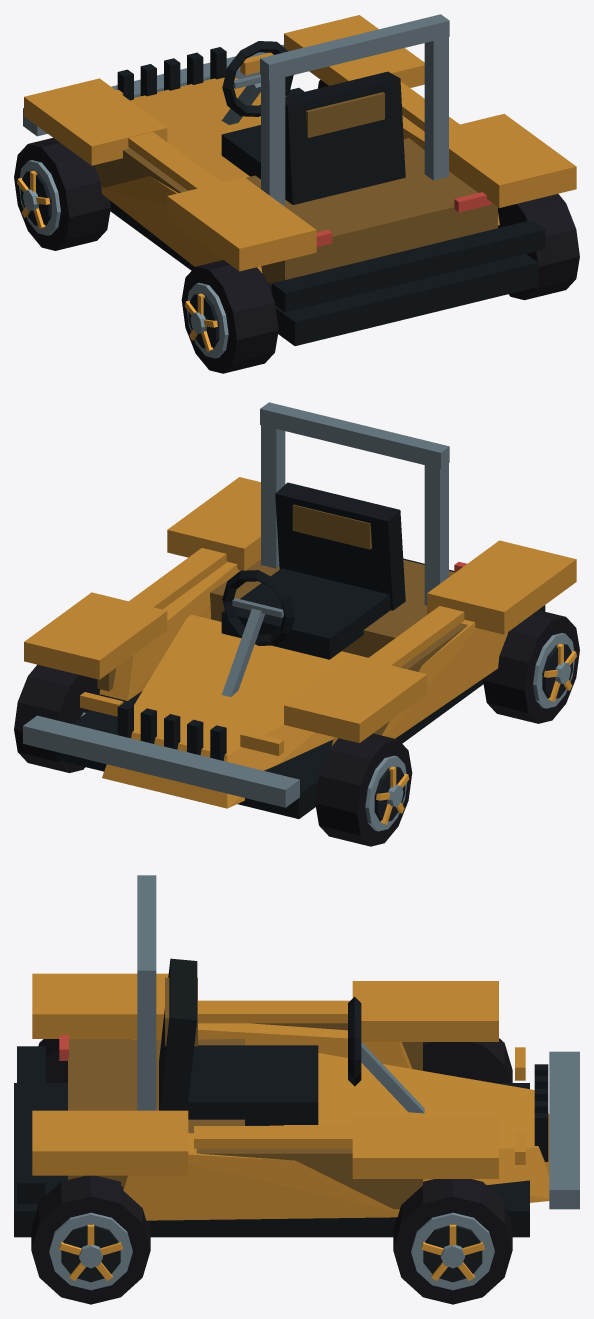
Rendered from kart.glb.
3 views of the same model, one above another, from view 1: azimuth 30°, elevation 25°; view 2: azimuth 150°, elevation 25°; view 3: azimuth 270°, elevation 25° (orthographic). The views are drawn at different scales.
Parts seen in each view (by area): view 1: chassis, wheel-rear-left, wheel-front-left, wheel-rear-right; view 2: chassis, wheel-front-left, wheel-rear-left, wheel-front-right; view 3: chassis, wheel-rear-right, wheel-front-right, wheel-front-left, wheel-rear-left.
Part boxes in pixels (x1=…): chassis: x1=23, y1=14, x2=576, y2=345; wheel-rear-left: x1=181, y1=260, x2=278, y2=373; wheel-front-left: x1=14, y1=138, x2=110, y2=250; wheel-rear-right: x1=498, y1=194, x2=579, y2=300; chassis: x1=23, y1=402, x2=576, y2=818; wheel-front-left: x1=315, y1=733, x2=412, y2=846; wheel-rear-left: x1=483, y1=610, x2=579, y2=723; wheel-front-right: x1=14, y1=664, x2=108, y2=772; chassis: x1=14, y1=875, x2=579, y2=1237; wheel-rear-right: x1=31, y1=1175, x2=150, y2=1304; wheel-front-right: x1=393, y1=1179, x2=512, y2=1304; wheel-front-left: x1=423, y1=1038, x2=512, y2=1082; wheel-rear-left: x1=38, y1=1039, x2=67, y2=1082.
Size of the model in its own units: 2.39 by 1.67 by 2.94.
